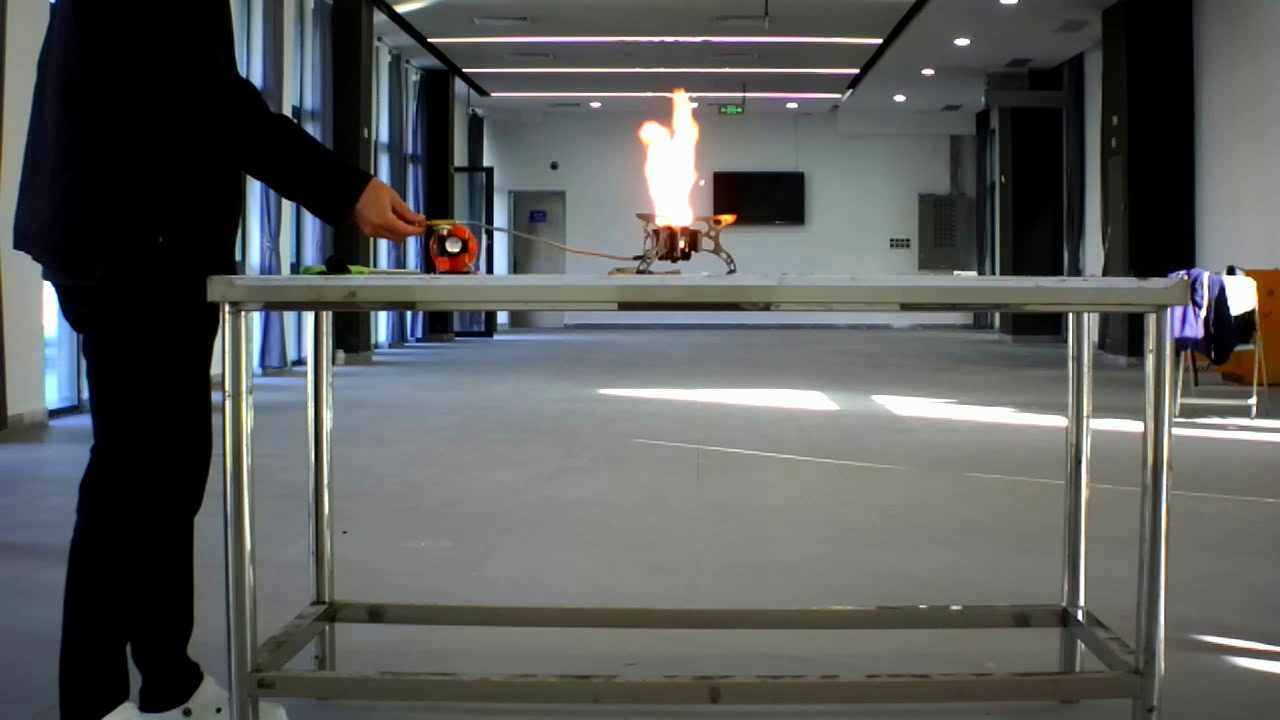Fire: (620, 88, 743, 266)
